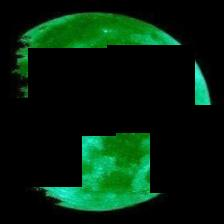green: (17, 13, 210, 211)
